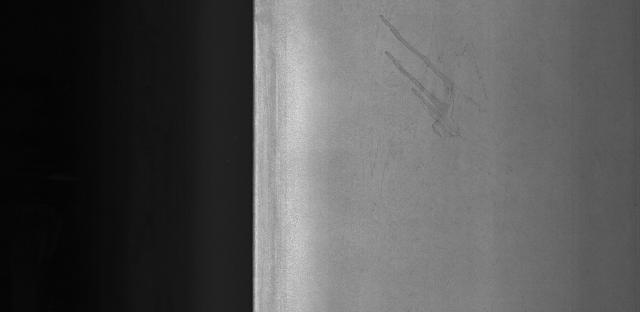water_spot: (372, 7, 488, 145)
